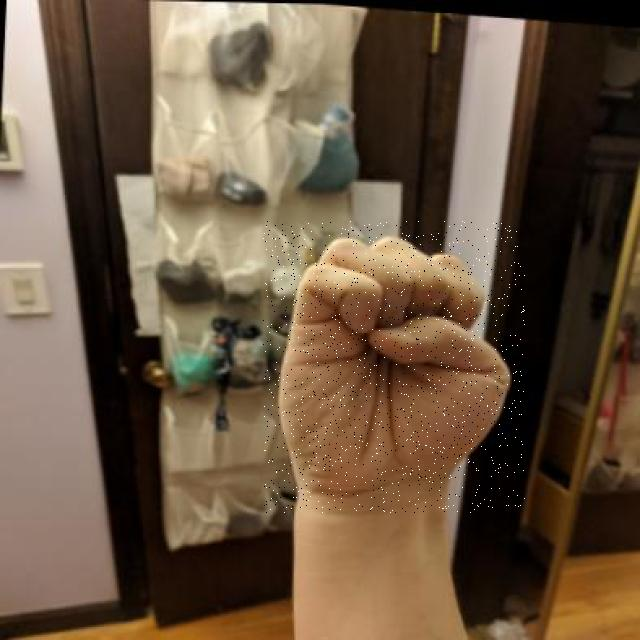E: (263, 221, 525, 513)
